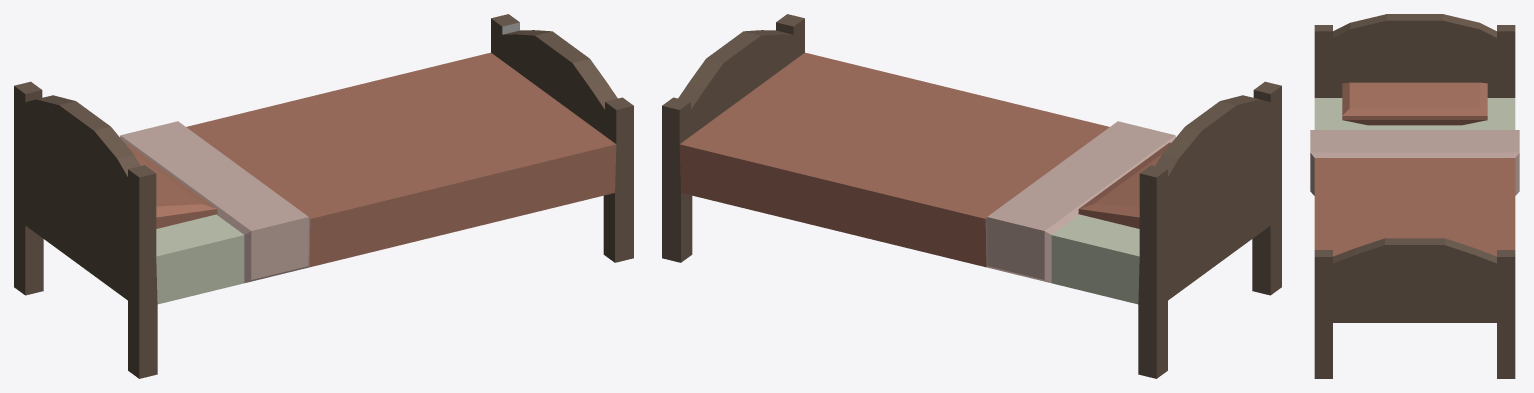
The model's file is Single Bed.fbx.
3 views of the same model, side by side, from view 1: azimuth 30°, elevation 25°; view 2: azimuth 150°, elevation 25°; view 3: azimuth 270°, elevation 25° (orthographic). The views are drawn at different scales.
Parts seen in each view (by area): view 1: Bed_Single; view 2: Bed_Single; view 3: Bed_Single.
Part boxes in pixels (box(x1,y1,x2,y2)): Bed_Single: box(14, 14, 633, 378); Bed_Single: box(662, 14, 1281, 378); Bed_Single: box(1310, 14, 1519, 378).
Size of the model in its own units: 115 by 47.78 by 52.71.
